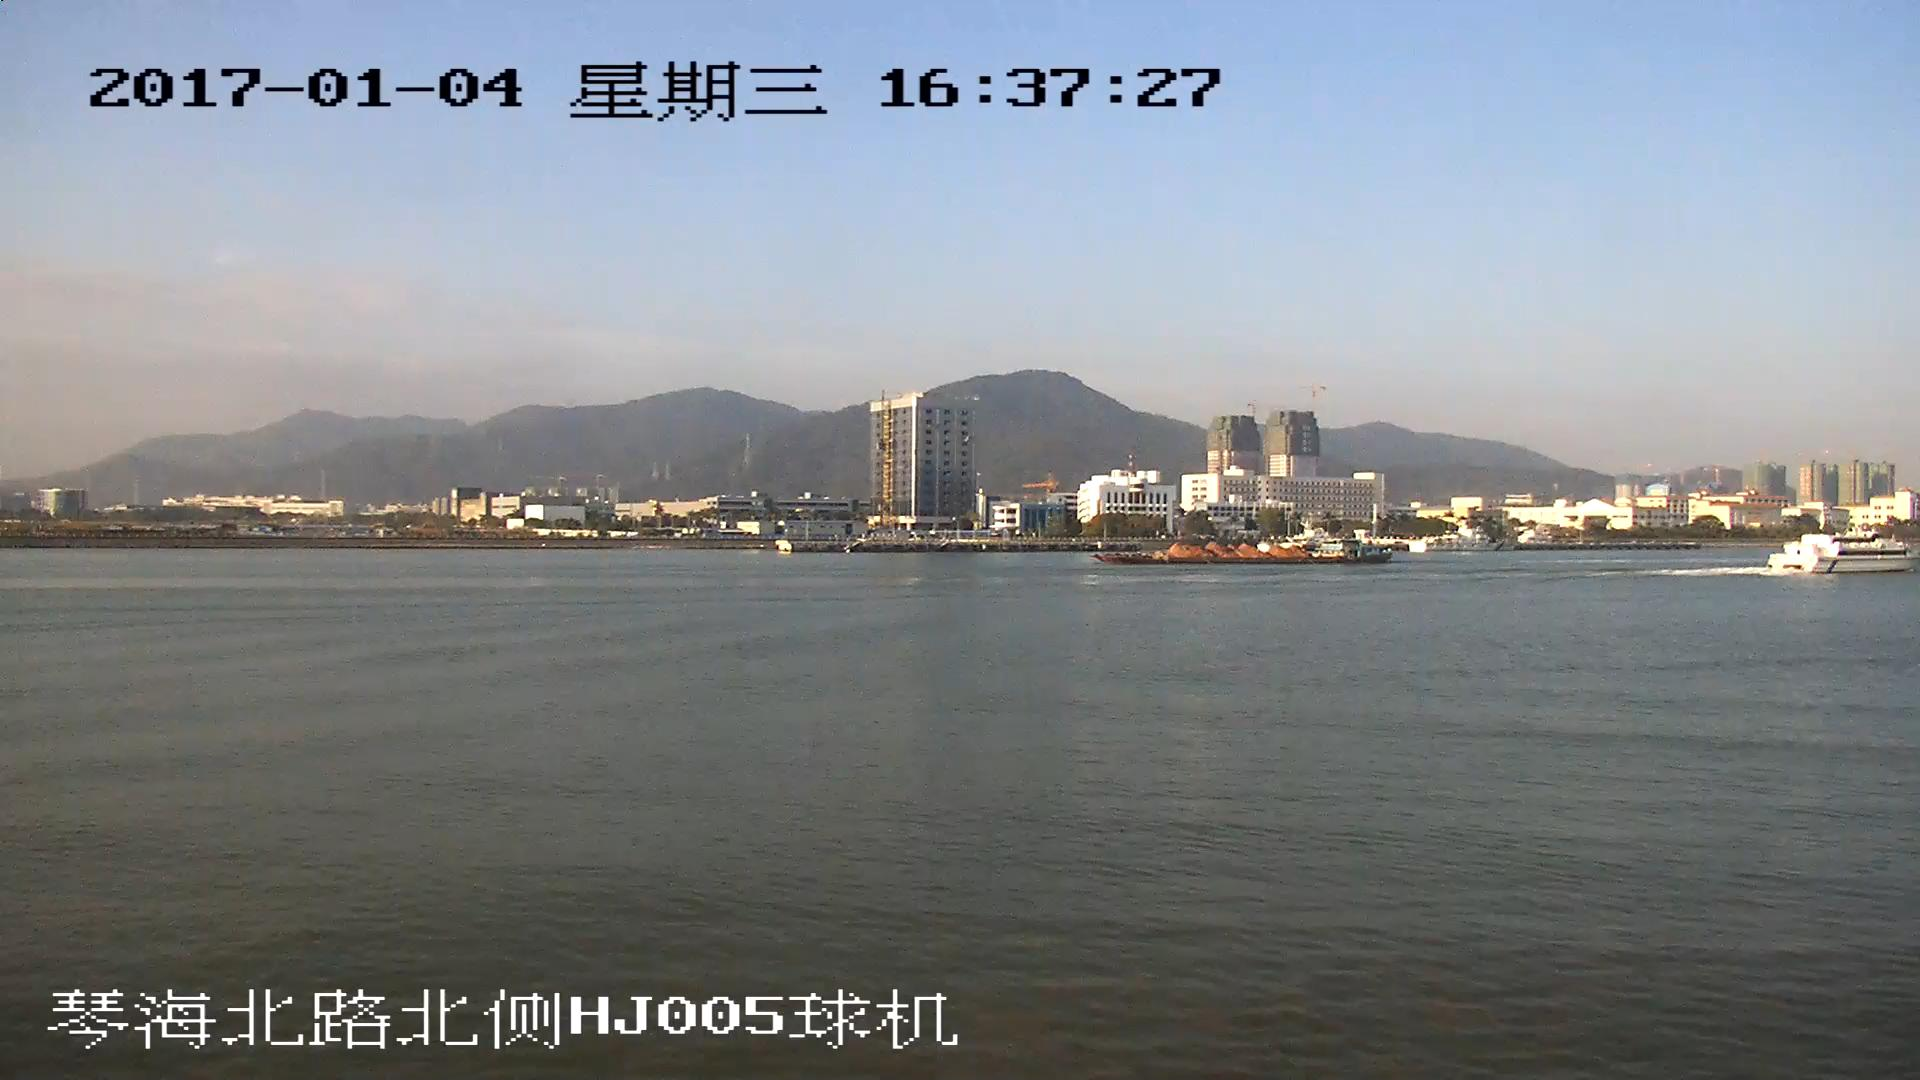ore carrier: (1098, 536, 1414, 568)
passenger ship: (1764, 530, 1918, 576)
